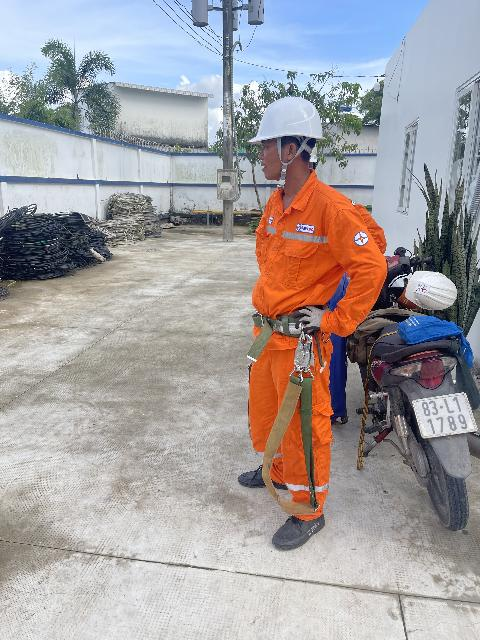gloves: (298, 305, 333, 337)
harness: (233, 302, 325, 346)
helmet: (244, 98, 332, 151)
shoes: (258, 505, 331, 555), (234, 456, 302, 499)
